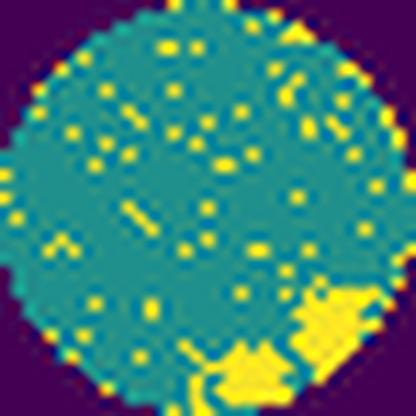Edge-Loc: (157, 337, 302, 416), (290, 272, 381, 384)
